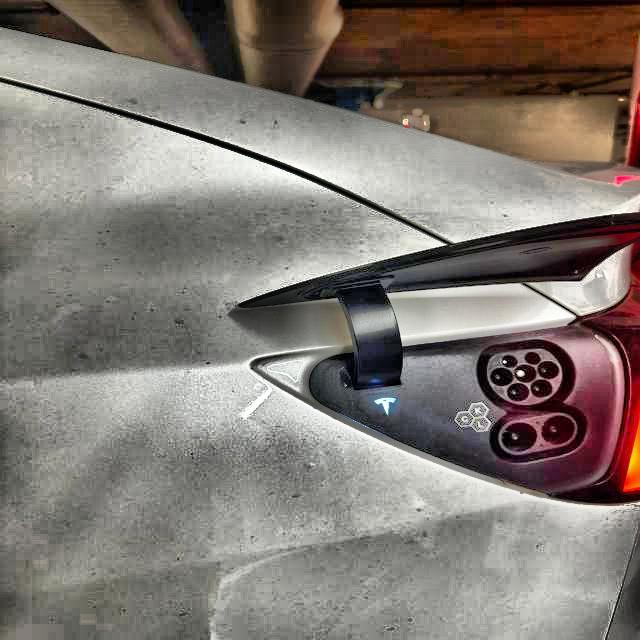inlet: (487, 349, 562, 405)
inlet-above-left: (501, 355, 518, 368)
inlet-above-right: (524, 352, 541, 365)
inlet-below-left: (507, 383, 530, 401)
inlet-below-right: (530, 379, 552, 398)
inlet-center: (514, 364, 537, 383)
inlet-center-left: (490, 367, 513, 387)
inlet-center-right: (537, 361, 560, 379)
